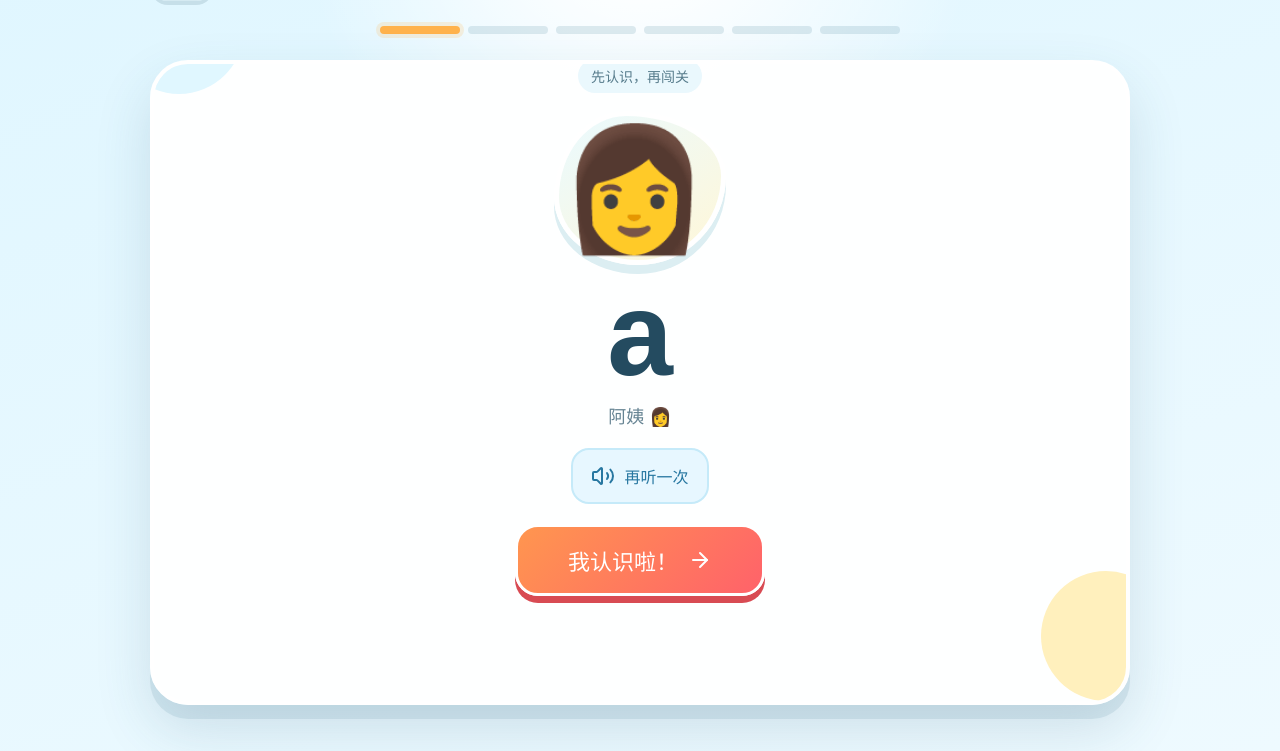
it: 我的学习小岛 › 今日冒险按五个不同关卡学完拼音后才进入数学
The width and height of the screenshot is (1280, 751).
Earlier steps of the test are not shown.
(page scrolled)
Click the button "我认识啦！" at (640, 560), box [515,524,765,596]
(page scrolled)
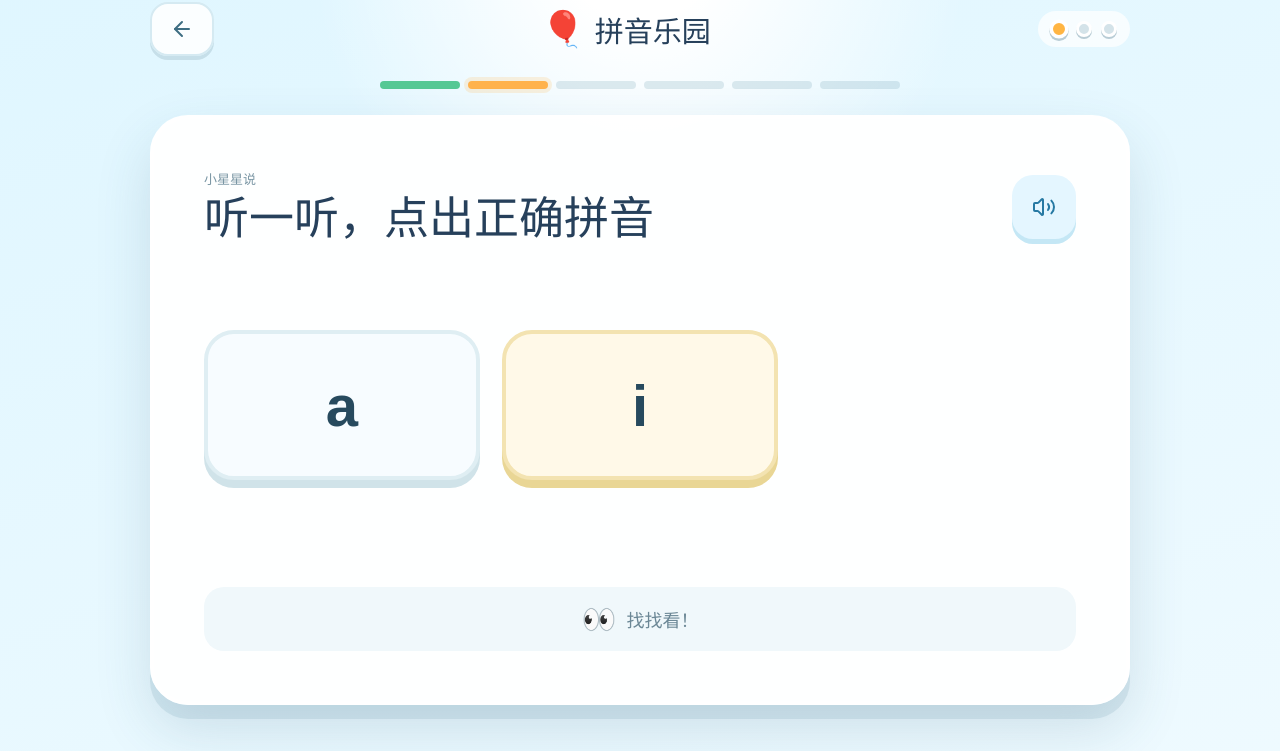
Click the button "a" at (342, 405), box [204,330,480,480]
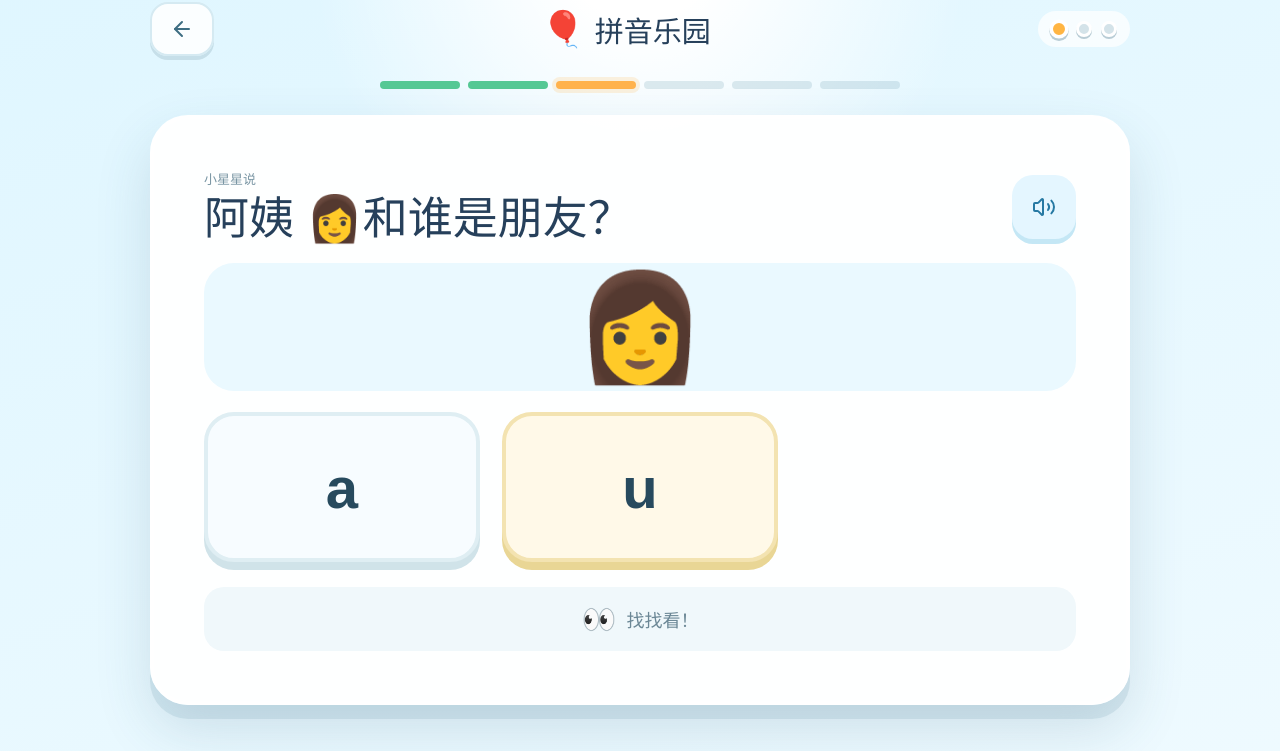
Click the button "a" at (342, 487), box [204,412,480,562]
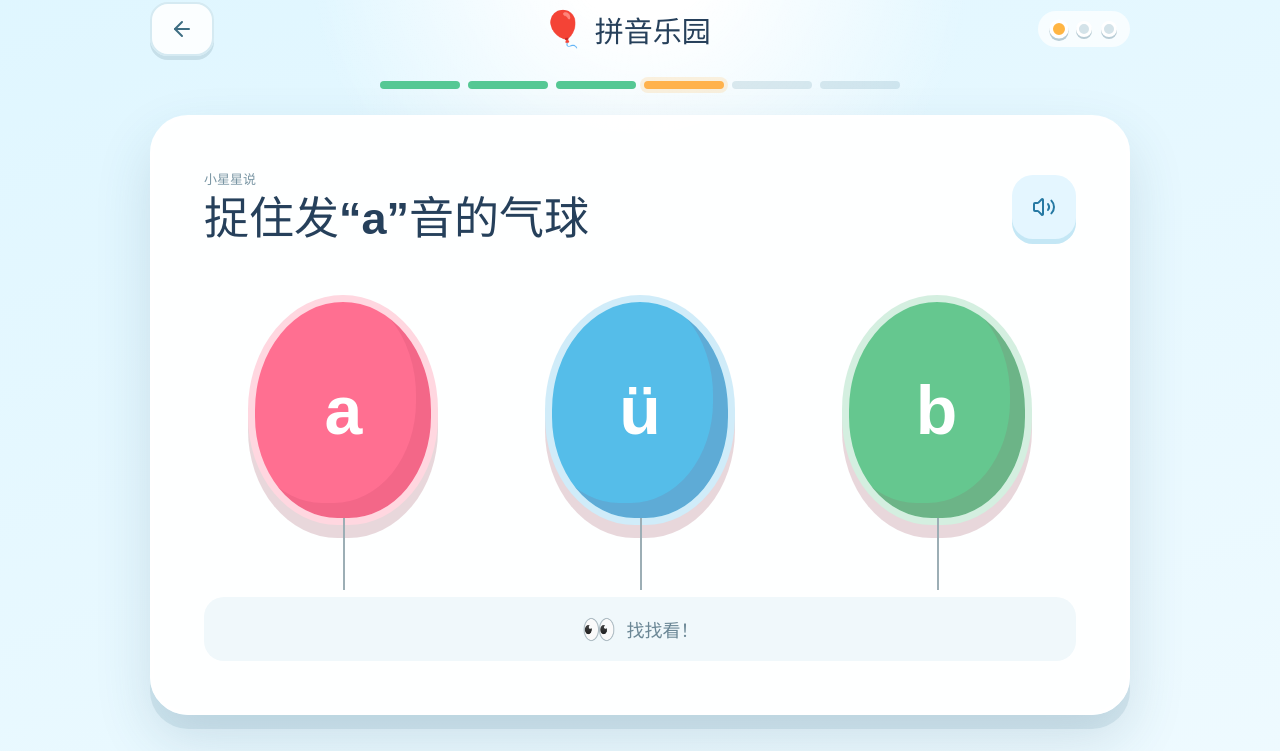
Click the button "a" at (343, 410), box [248,295,438,525]
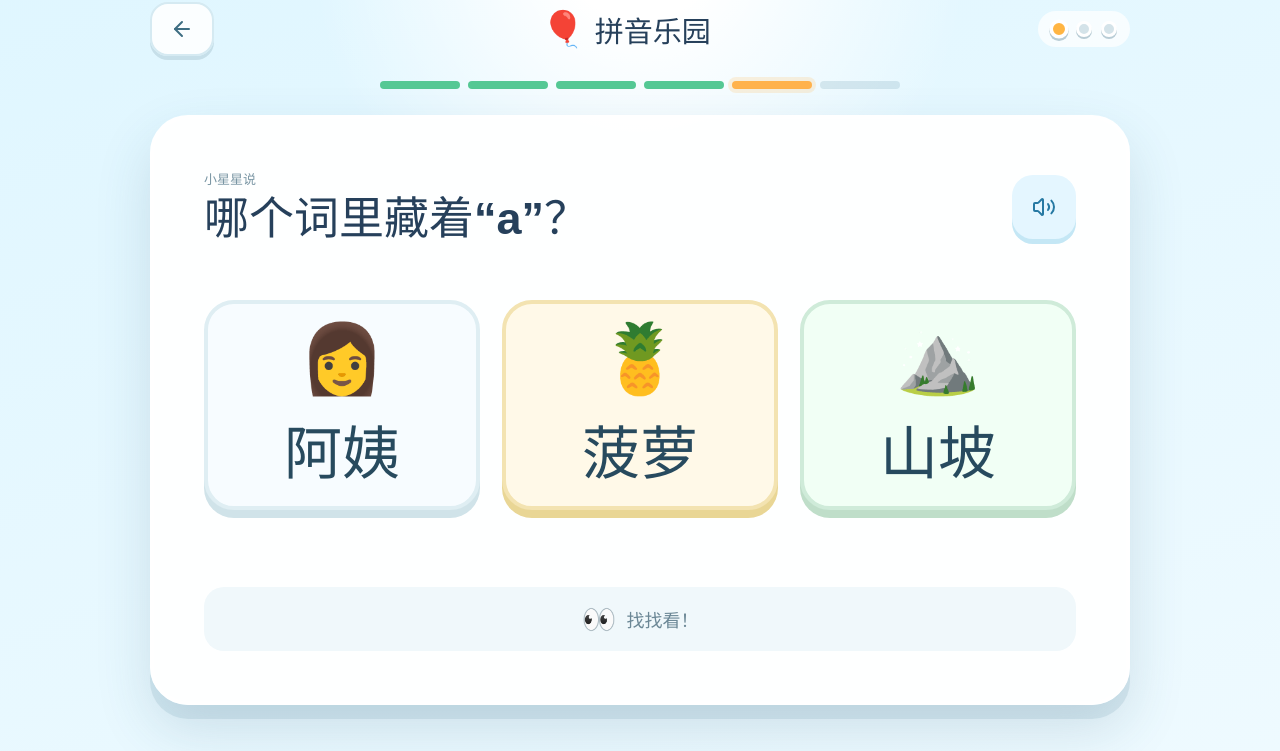
Click the button "👩 阿姨" at (342, 358), box [204,300,480,510]
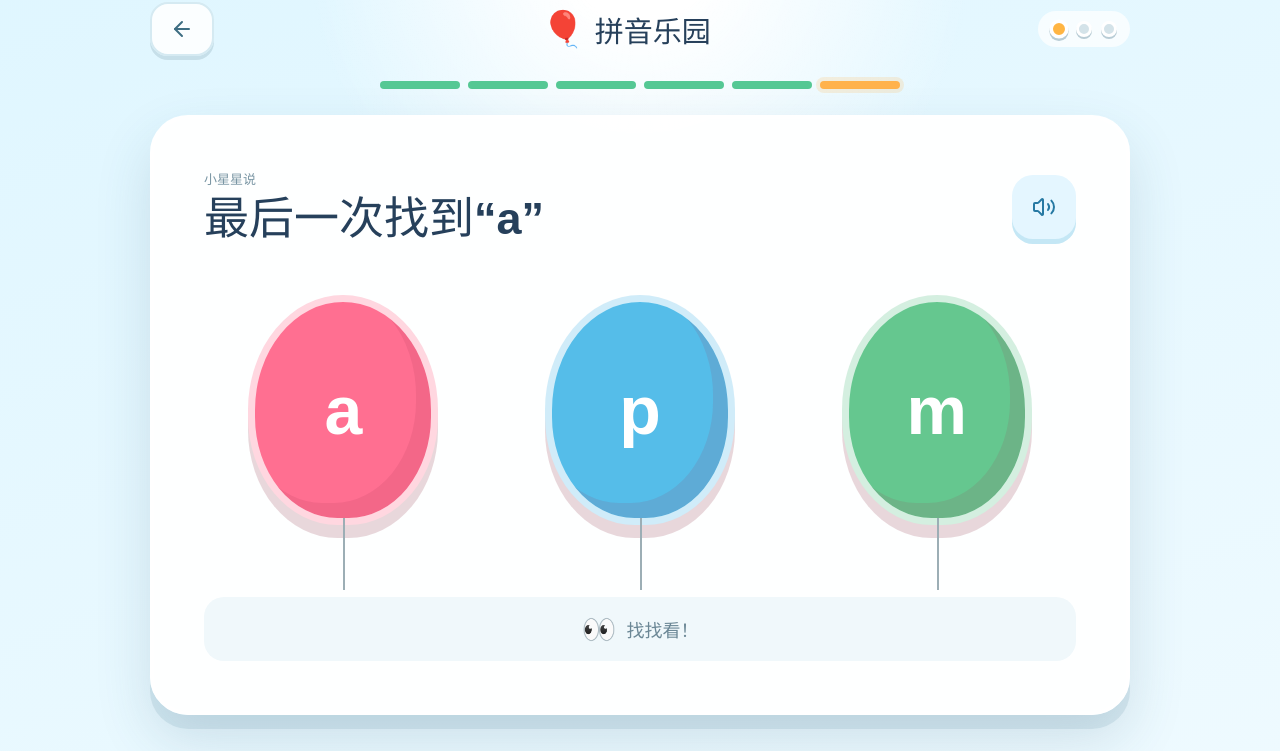
Click the button "a" at (343, 410), box [248,295,438,525]
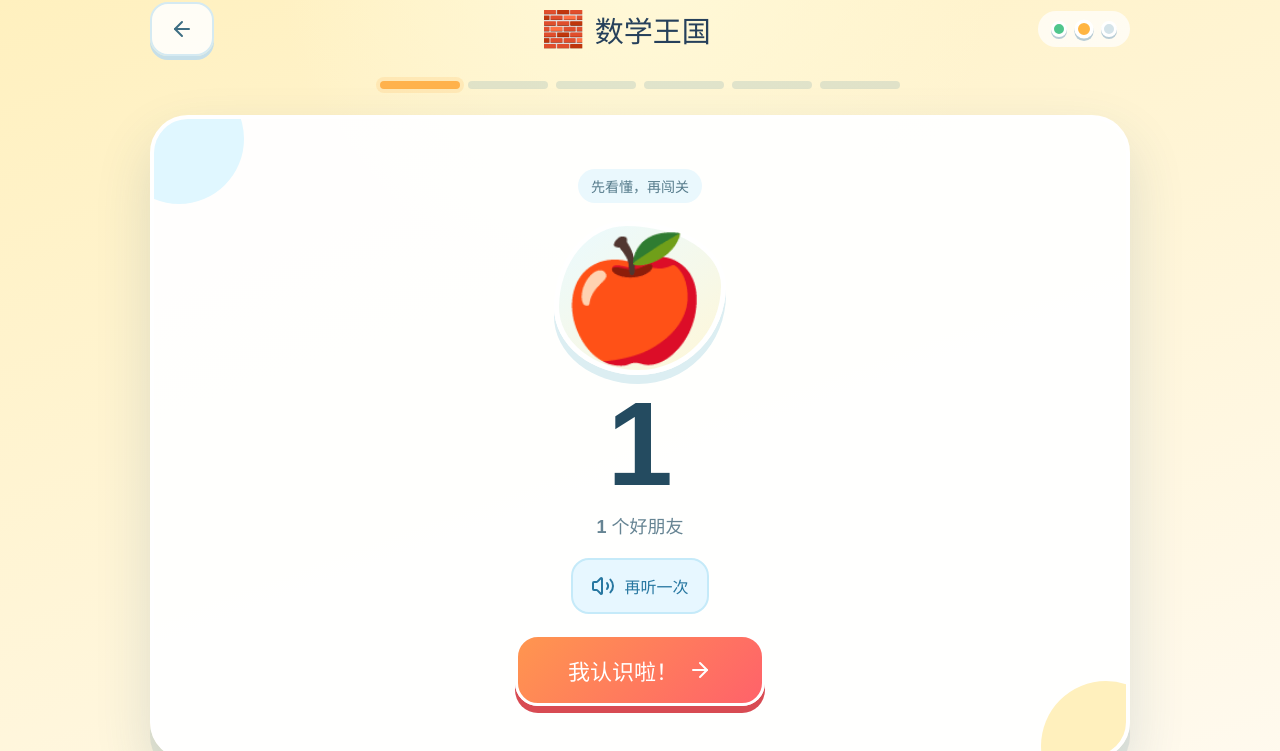
Result: the heading "1" is shown at [607,385,673,503]
Result: the text "1 个好朋友" is shown at [596,512,684,538]
